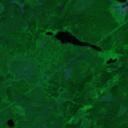alloviz: (54, 30, 102, 51), (5, 118, 16, 127), (105, 56, 117, 64), (44, 30, 53, 36)
